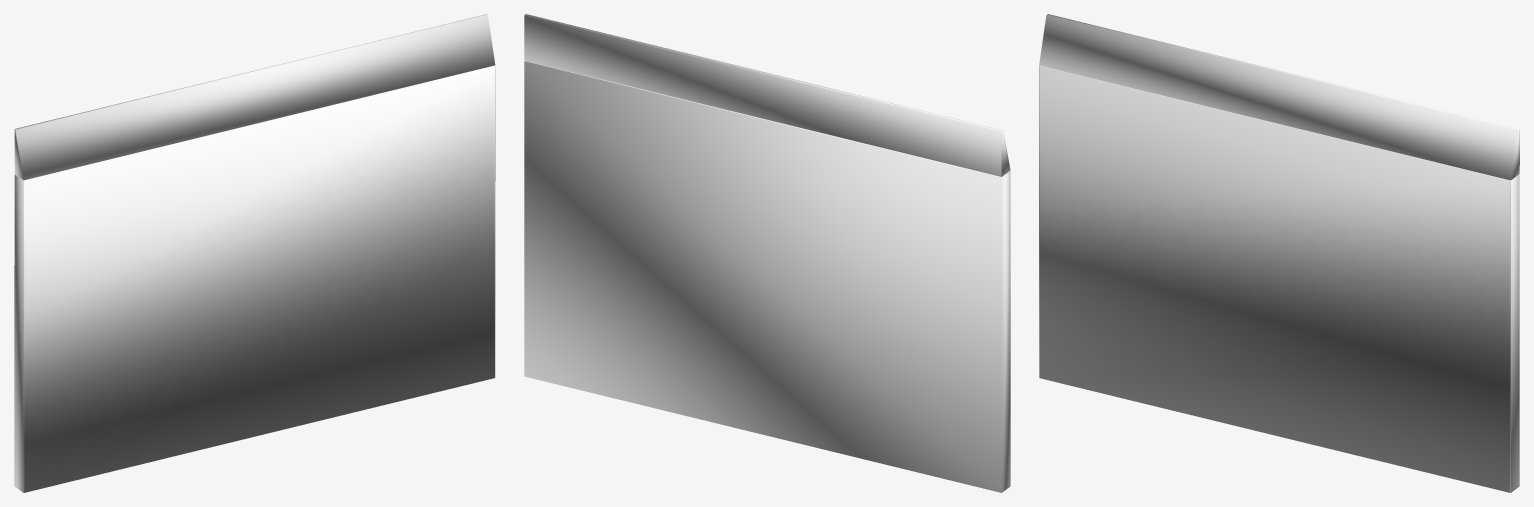
Rendered from abo-B00TOAN83I.glb.
3 views of the same model, side by side, from view 1: azimuth 30°, elevation 25°; view 2: azimuth 150°, elevation 25°; view 3: azimuth 330°, elevation 25° (orthographic).
Visible parts, largest first — view 1: B00TOAN83I; view 2: B00TOAN83I; view 3: B00TOAN83I.
Boxes of the visible parts, x1,y1,x2,y2 form: B00TOAN83I: (14,14,495,492); B00TOAN83I: (524,14,1010,492); B00TOAN83I: (1039,14,1519,492).
Bounding box in the file's own units: 0.8691 × 0.6291 × 0.0295.
1 material, 1 textured.
